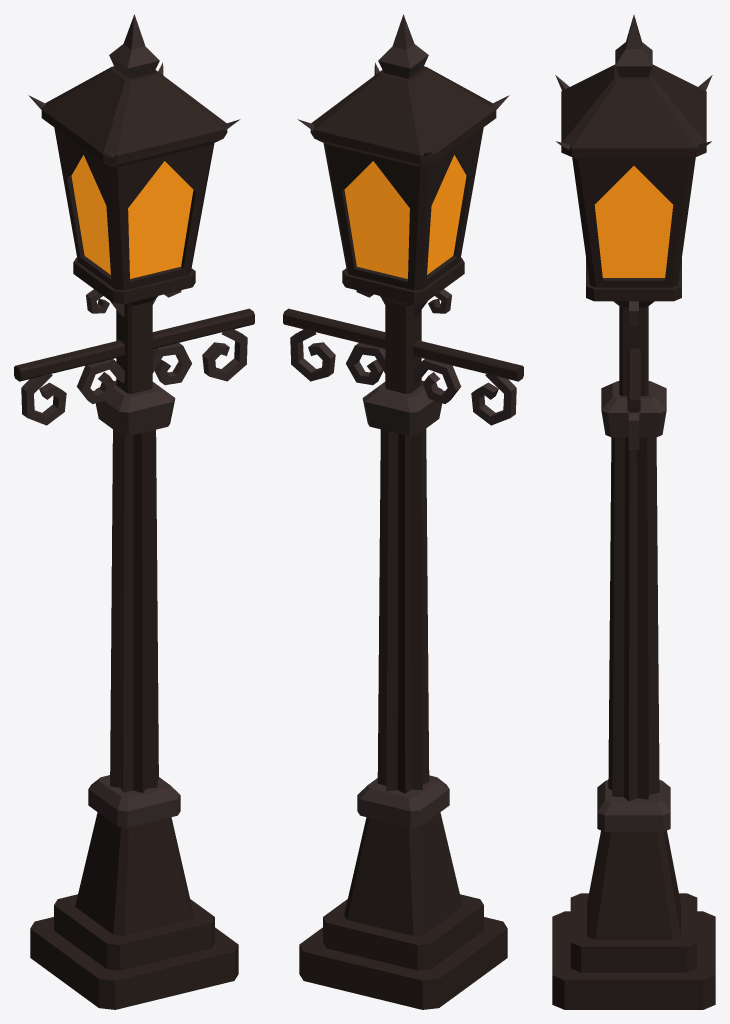
File: cemetery-lantern-post-fed352.glb
3 views of the same model, side by side, from view 1: azimuth 30°, elevation 25°; view 2: azimuth 150°, elevation 25°; view 3: azimuth 270°, elevation 25° (orthographic).
Visible parts, largest first — view 1: post, lantern-panes; view 2: post, lantern-panes; view 3: post, lantern-panes.
Boxes of the visible parts, left/top/right/bottom form: post: left=14, top=14, right=254, bottom=1009; lantern-panes: left=71, top=155, right=193, bottom=278; post: left=283, top=14, right=523, bottom=1009; lantern-panes: left=344, top=155, right=466, bottom=278; post: left=552, top=15, right=715, bottom=1009; lantern-panes: left=594, top=166, right=673, bottom=277.
Size of the model in its own units: 0.67 by 2.6 by 0.4.
